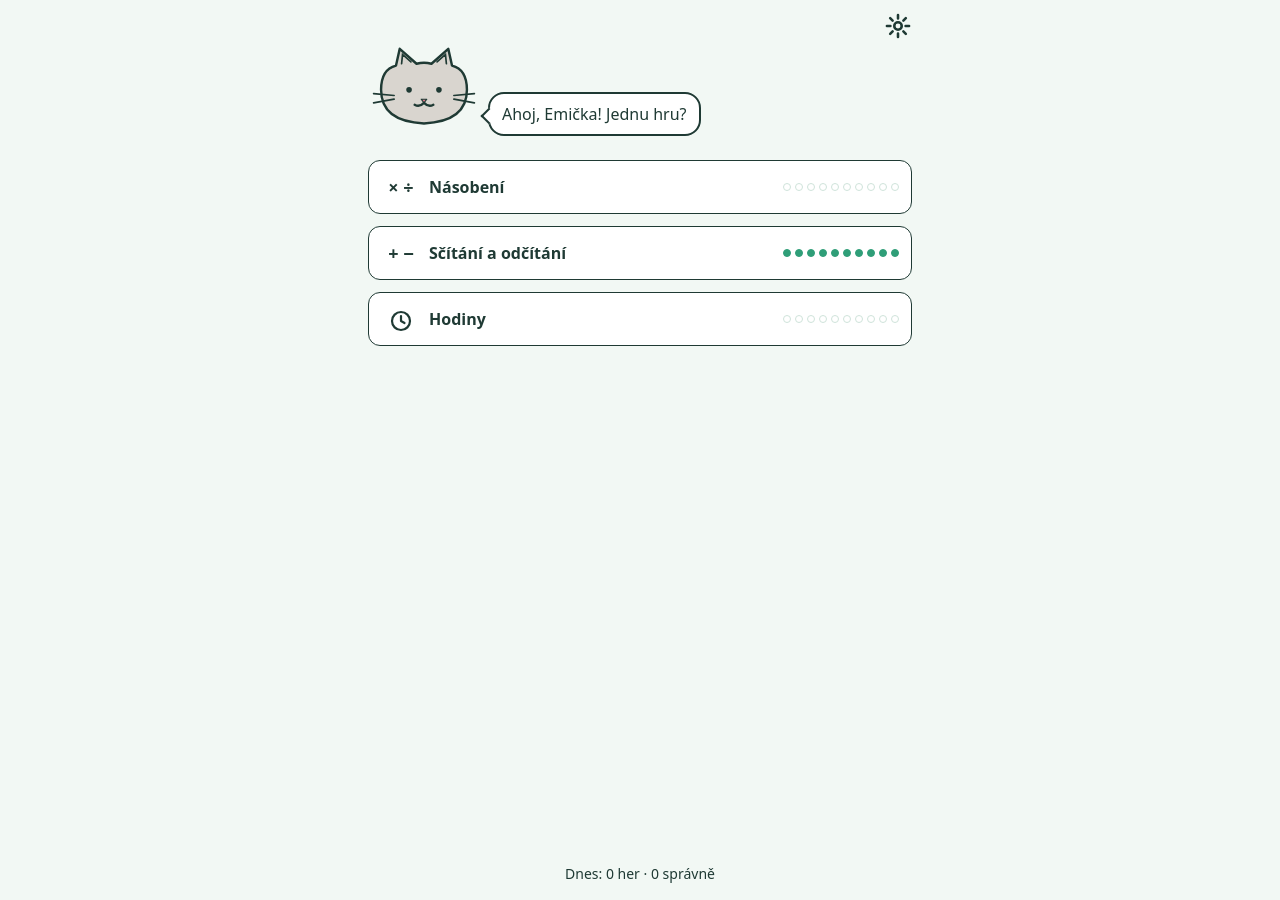
Scenario: App game selection and session persistence › offers three games by default
Expected: the button "× ÷ Násobení" is shown, [368,160,912,214]
Expected: the button "+ − Sčítání a odčítání" is shown, [368,226,912,280]
Click the button "Hodiny": (457, 319) [368,292,912,346]
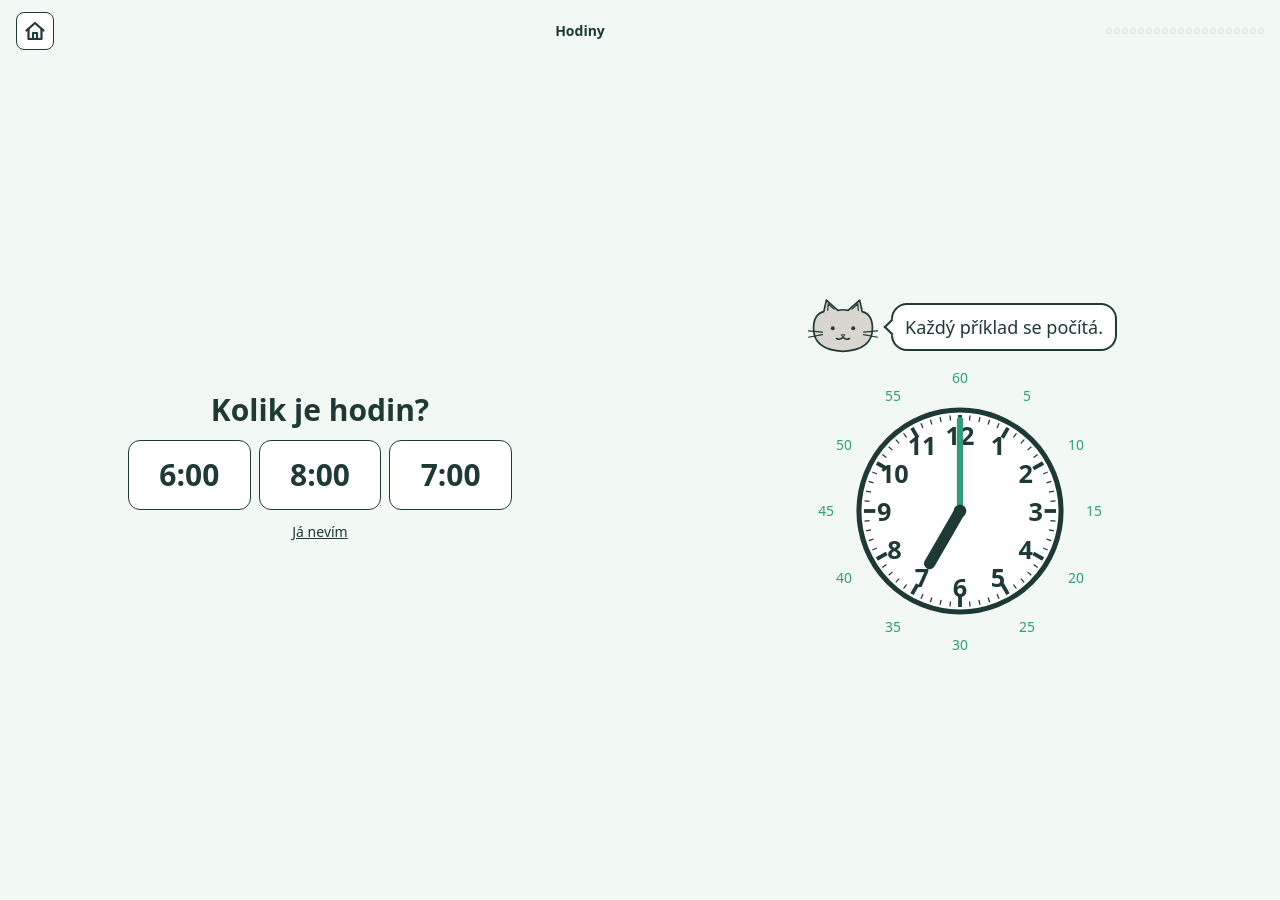
Result: the picture with test id "clock-face" is shown at [816,367,1104,655]
